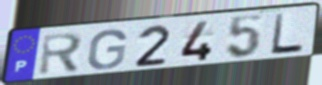2: (133, 23, 172, 68)
4: (179, 19, 215, 63)
5: (226, 13, 264, 60)
G: (85, 28, 129, 72)
L: (268, 12, 305, 57)
R: (37, 30, 86, 77)
